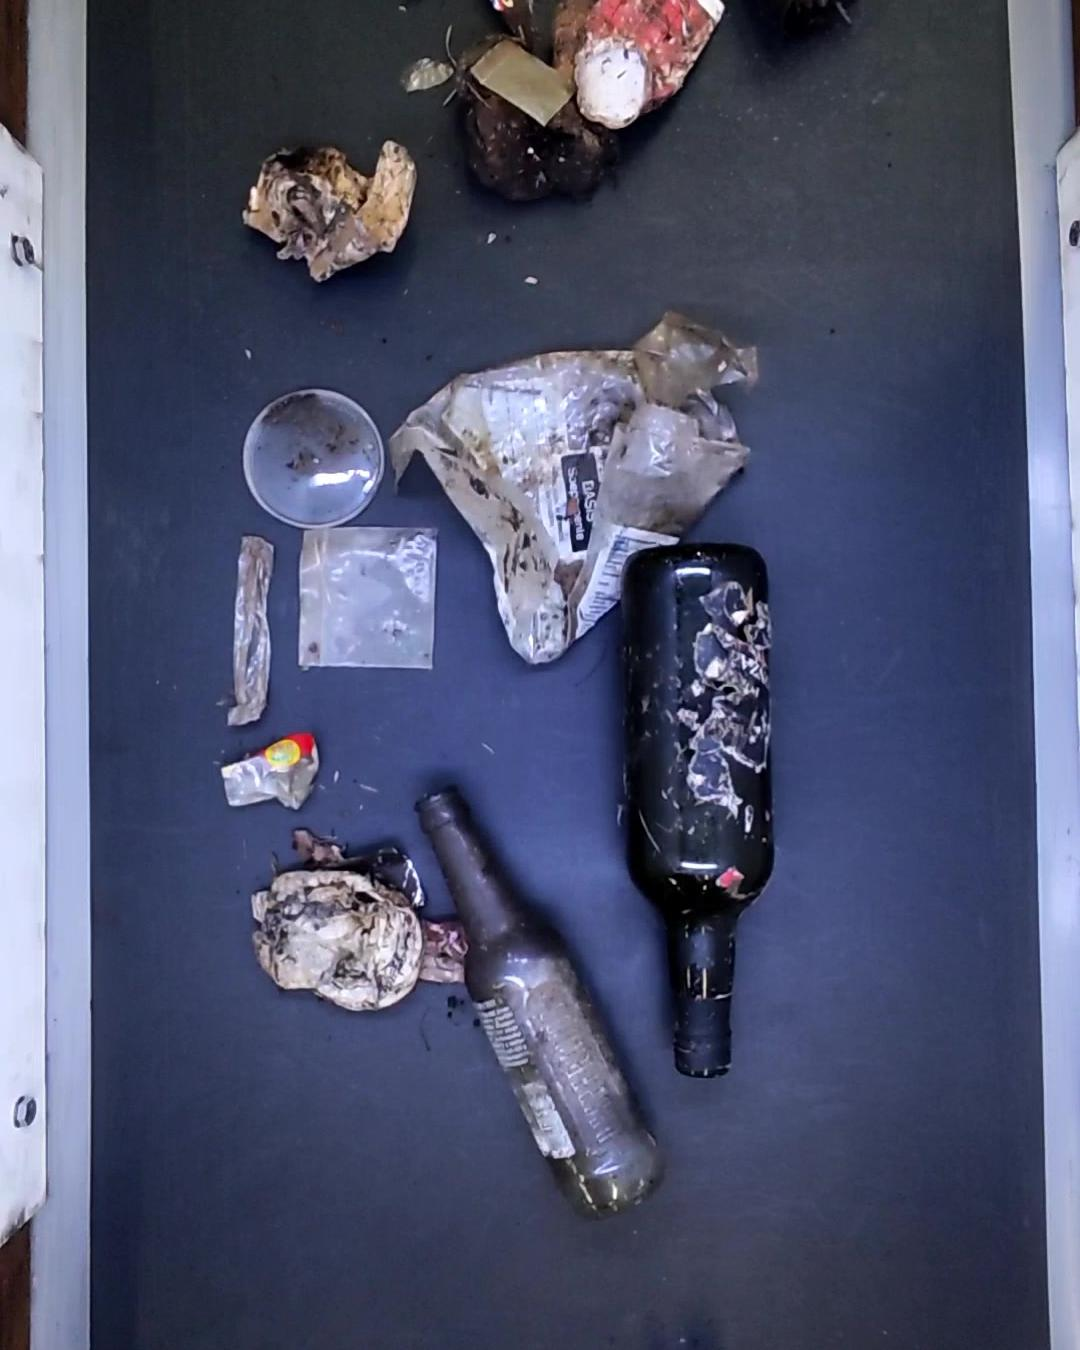Plastic folies of stukken daarvan 2.5- 50 cm: (386, 311, 762, 671), (299, 526, 434, 670), (225, 527, 272, 727)
Snoep snack en chips verpakkingen: (222, 725, 321, 812)
